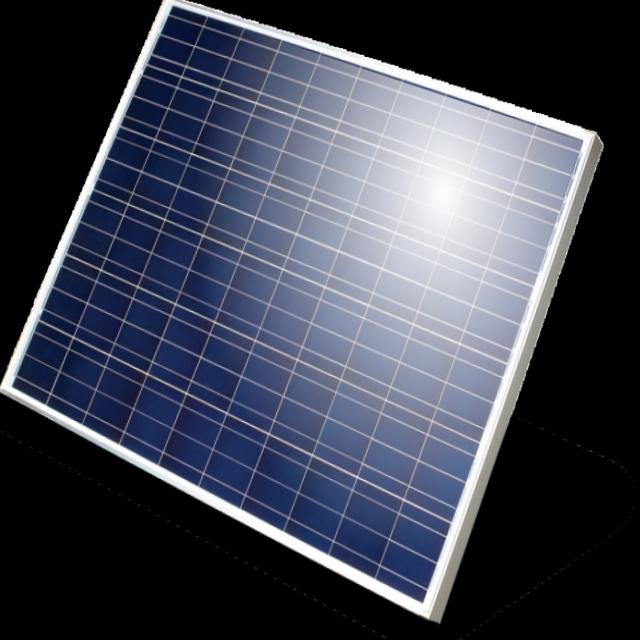no faulty: (7, 6, 579, 606)
